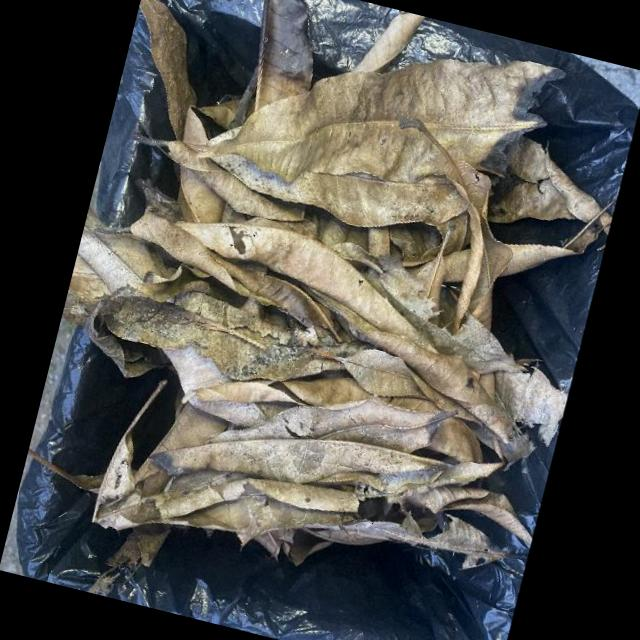la_cay: (91, 378, 359, 546), (197, 58, 555, 183), (181, 348, 508, 469), (176, 213, 439, 353), (310, 288, 512, 443), (129, 210, 342, 342), (398, 117, 513, 334), (103, 284, 314, 381), (210, 153, 467, 227), (205, 395, 458, 453), (150, 439, 447, 483), (153, 139, 306, 222), (384, 461, 532, 545), (301, 510, 508, 569), (68, 218, 209, 302), (478, 130, 601, 223), (498, 196, 617, 276), (139, 0, 197, 140), (255, 0, 313, 110), (493, 366, 567, 447), (351, 11, 427, 72), (423, 415, 482, 463)
